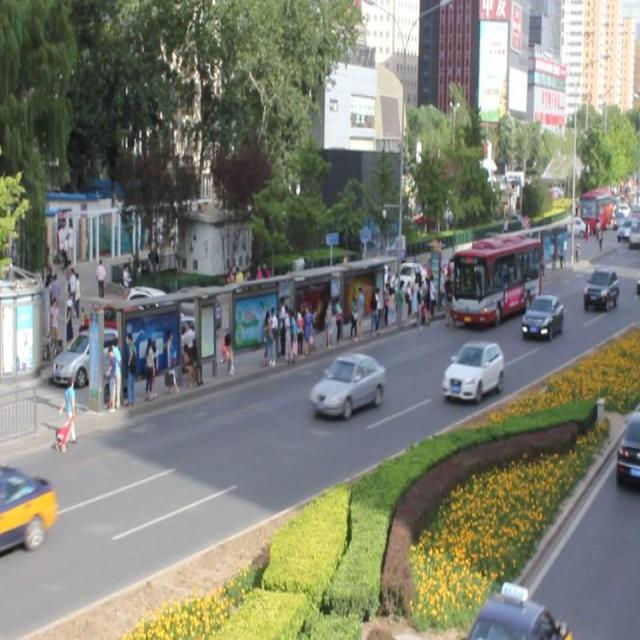car: (1, 463, 56, 553), (309, 352, 386, 416), (441, 340, 502, 401), (521, 293, 562, 341), (582, 268, 617, 312)
van: (447, 232, 538, 326)
